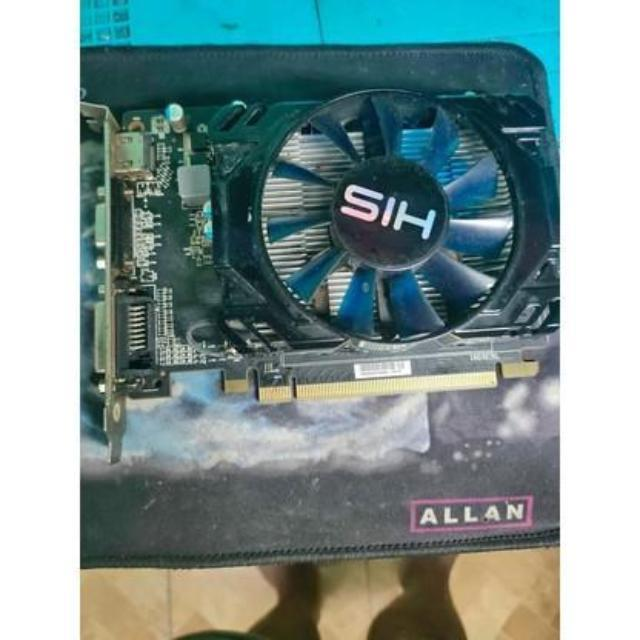GPU: (84, 87, 562, 399)
